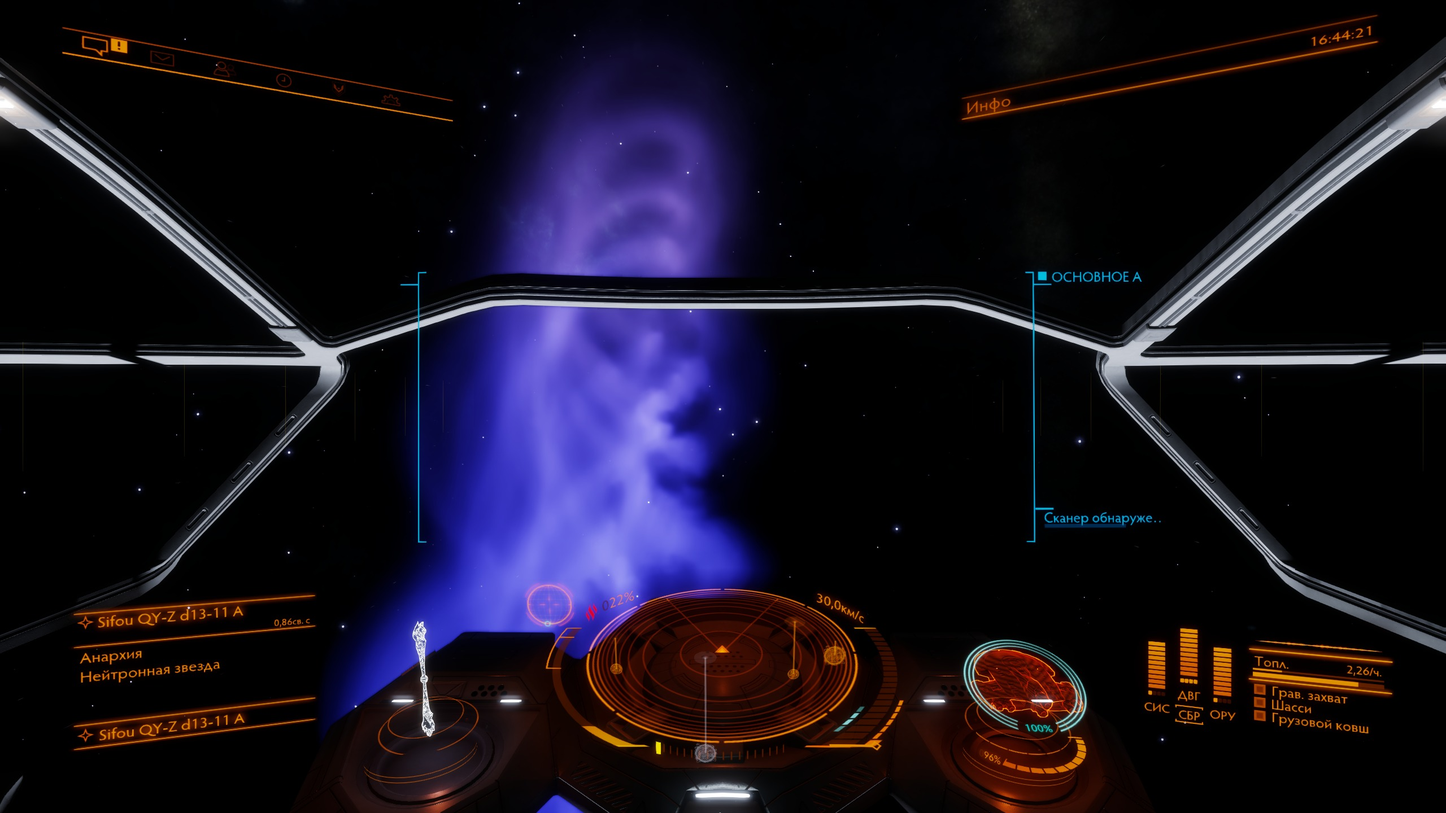jetcone: (343, 45, 783, 612)
